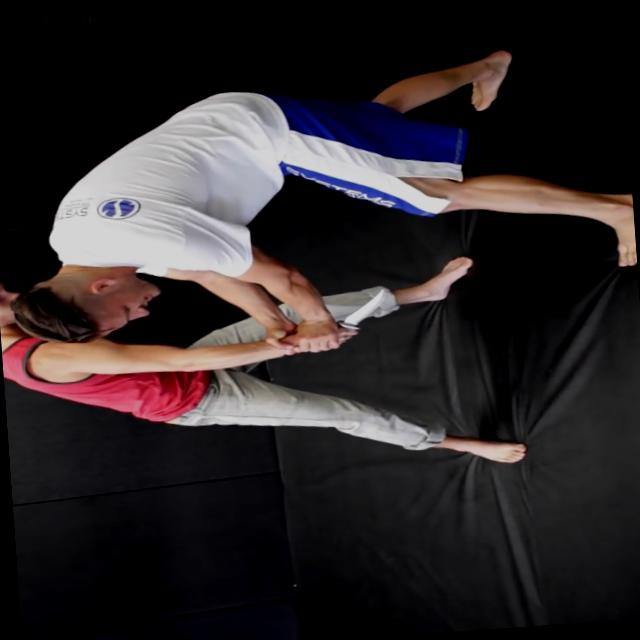knife: (322, 280, 398, 352)
